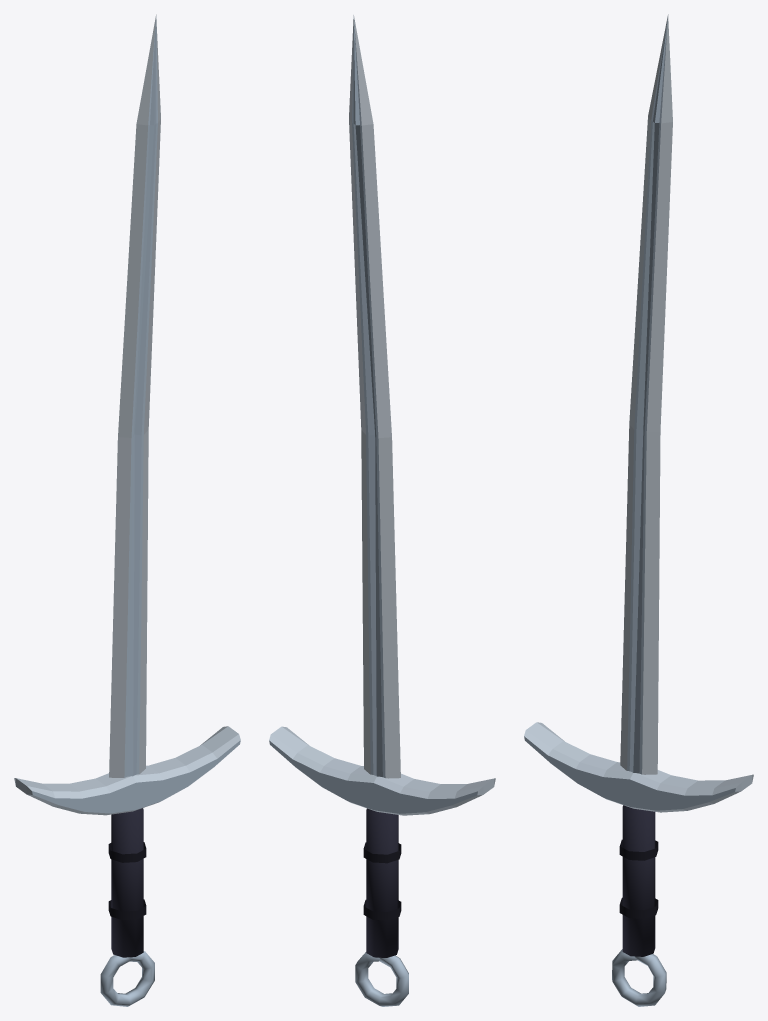
Rendered from titanium_shortsword.glb.
3 renders of one model, left to right at view 1: azimuth 30°, elevation 25°; view 2: azimuth 150°, elevation 25°; view 3: azimuth 330°, elevation 25°, orthographic.
Visible parts, largest first — view 1: titanium_shortsword_v0; view 2: titanium_shortsword_v0; view 3: titanium_shortsword_v0.
Part boxes in pixels (bbox=[...]): titanium_shortsword_v0: bbox=[14, 14, 240, 1006]; titanium_shortsword_v0: bbox=[269, 15, 495, 1006]; titanium_shortsword_v0: bbox=[524, 14, 753, 1006].
Size of the model in its own units: 0.3105 by 1.38 by 0.0496.
